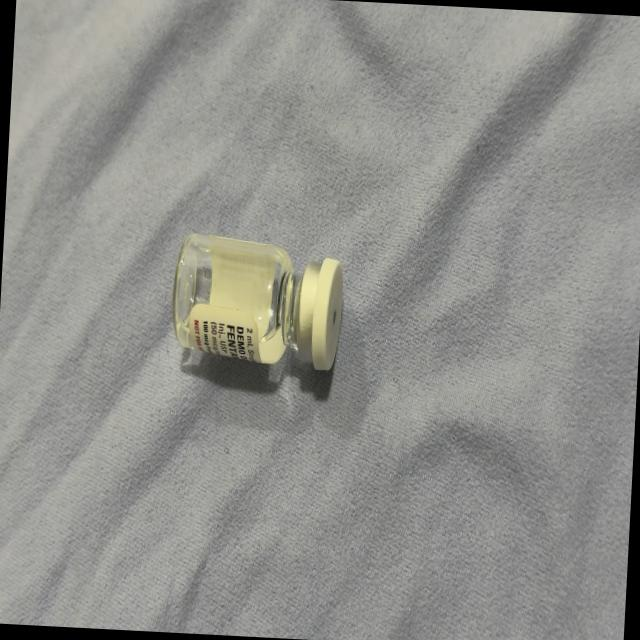fentanl_citrat: (172, 234, 342, 374)
